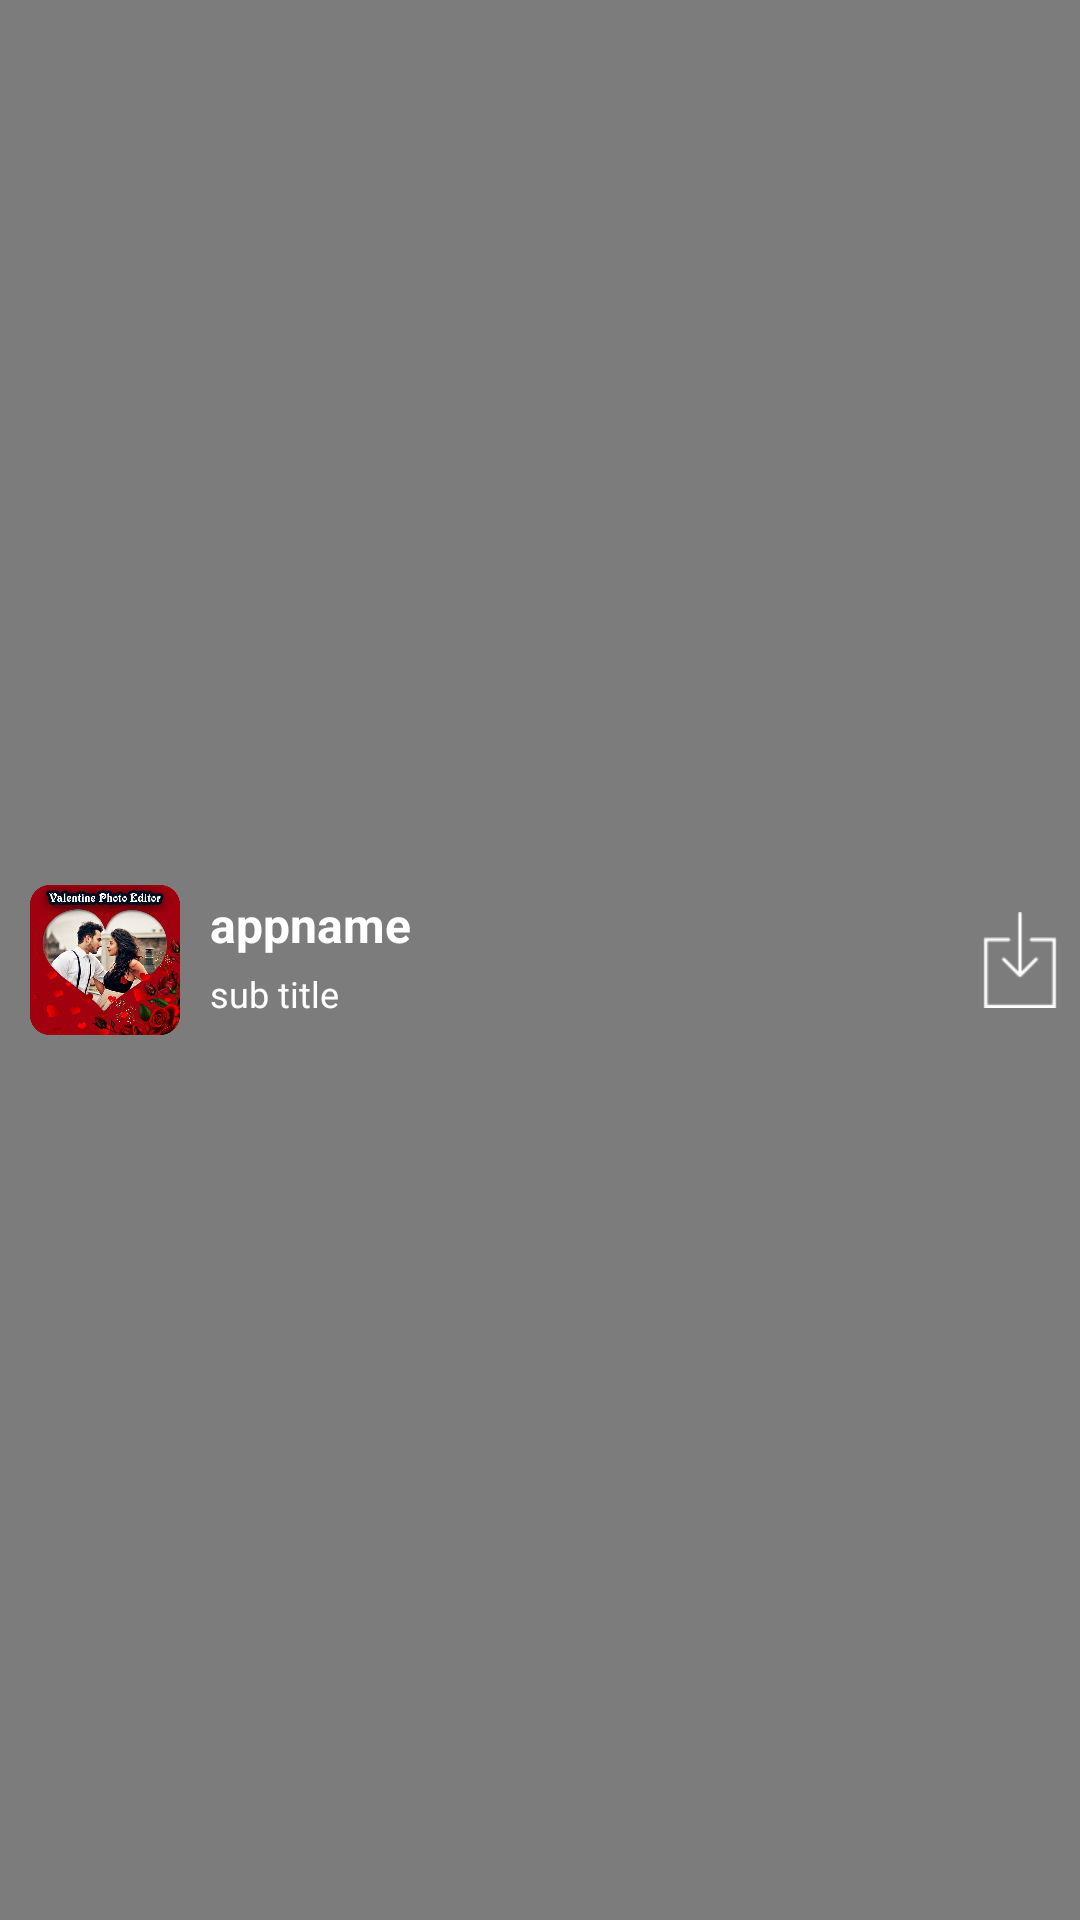

Screen size 1080px x 1920px. Icon name, then its box in pixels as (x1, y1, x2, y2):
appicon: (30, 885, 180, 1035)
download: (984, 912, 1056, 1008)
